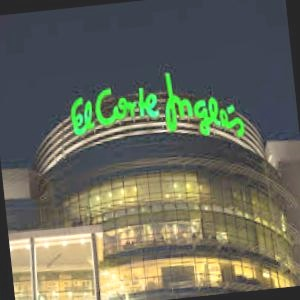corte_ingles: (54, 106, 300, 182)
